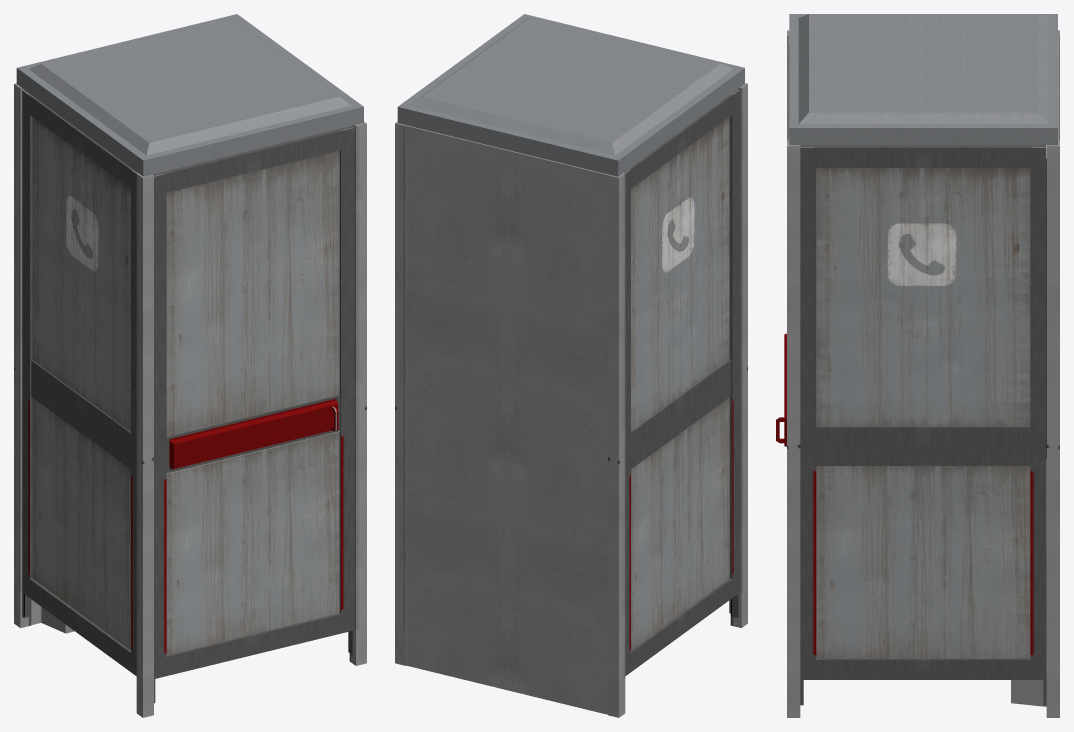
Rendered from PhoneBooth.fbx.
3 renders of one model, left to right at view 1: azimuth 30°, elevation 25°; view 2: azimuth 150°, elevation 25°; view 3: azimuth 270°, elevation 25°, orthographic. The views are drawn at different scales.
Visible parts, largest first — view 1: Booth; view 2: Booth; view 3: Door, Booth.
Part boxes in pixels (box(x1,y1,x2,y2)): Booth: box(14, 14, 366, 717); Booth: box(395, 14, 747, 717); Door: box(800, 145, 1046, 679); Booth: box(776, 14, 1059, 717).
Size of the model in its own units: 3.65 by 8.78 by 3.78.
